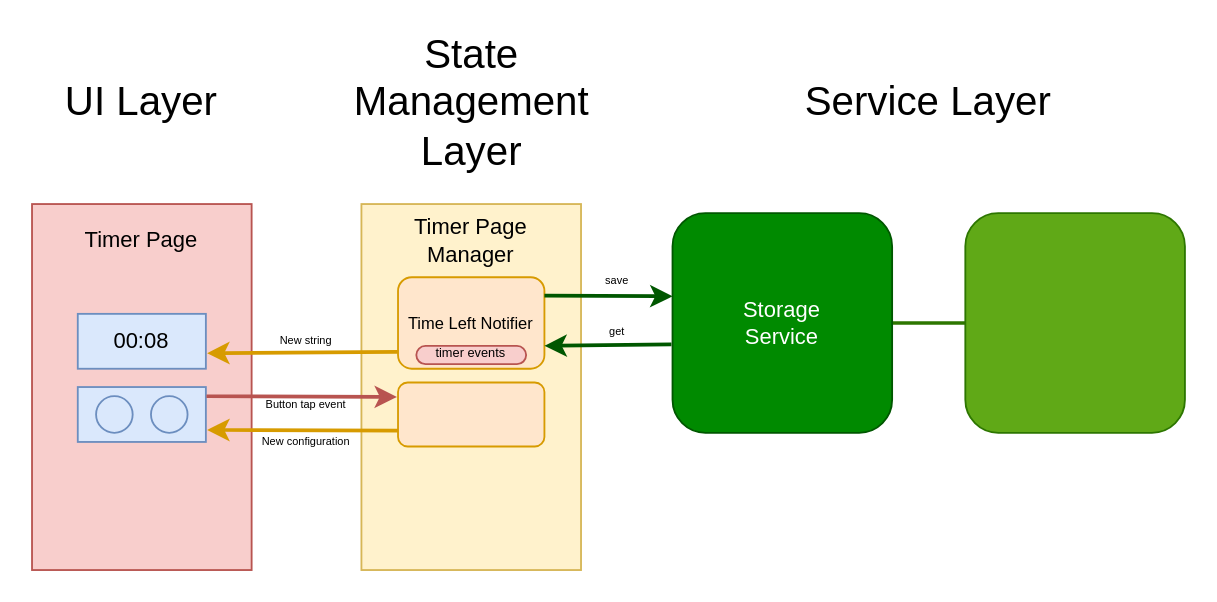
The diagram is 1217 pixels wide and 602 high, and some of its shapes have lost their labels. The shapes that lost their labels are listed below. From the top down, each one's centre as x and y in pixels, then its label:
At (x=1074, y=322): "Shared Preferences Service".
At (x=470, y=414): "Button Notifier".
